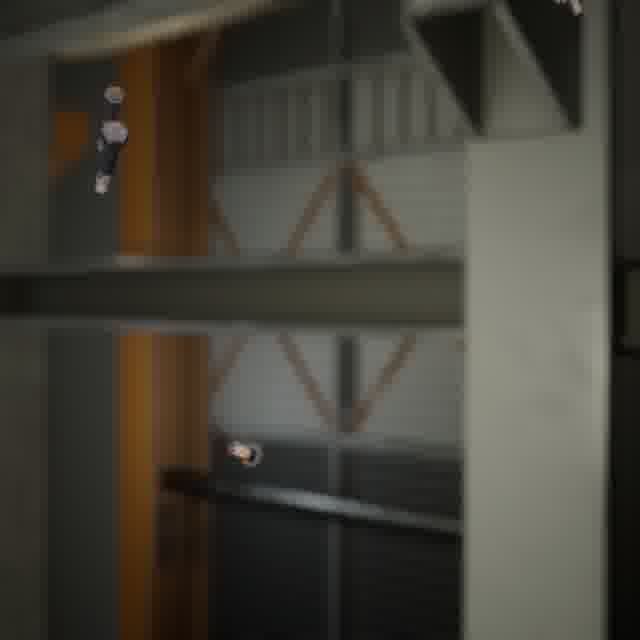bolt: (89, 116, 134, 198), (93, 82, 130, 155), (224, 437, 269, 472), (561, 0, 589, 22)
